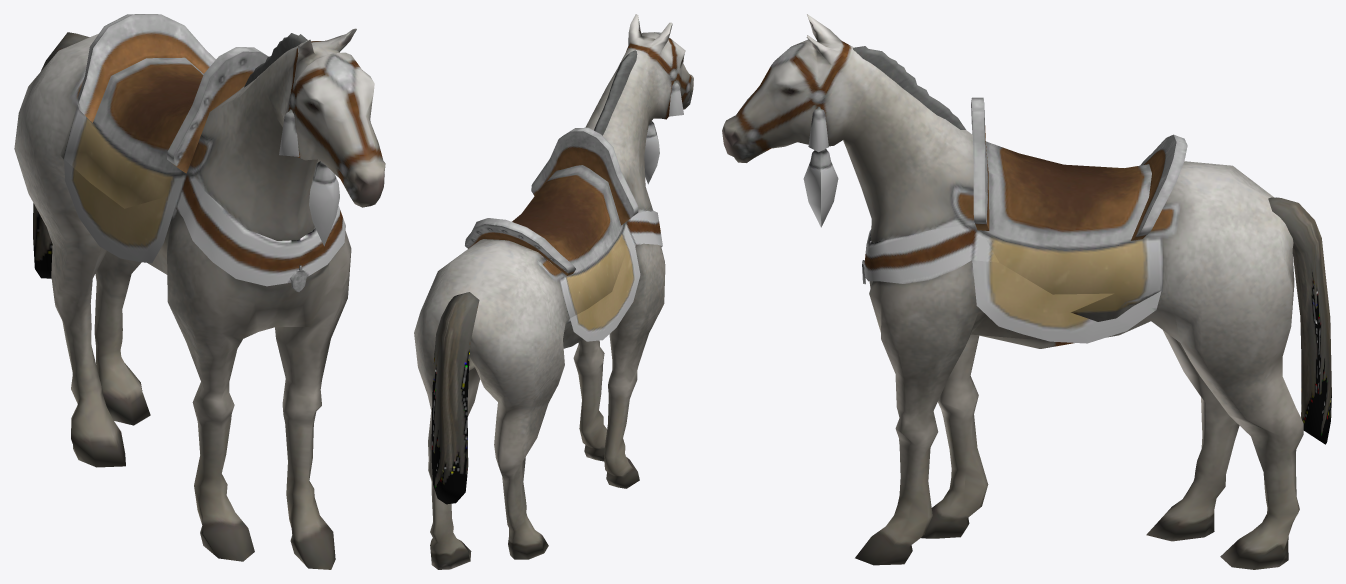
Rendered from body-base.glb.
3 views of the same model, side by side, from view 1: azimuth 30°, elevation 25°; view 2: azimuth 150°, elevation 25°; view 3: azimuth 270°, elevation 25° (orthographic). The views are drawn at different scales.
Bounding box in the file's own units: 0.8064 × 2.5 × 2.65.
1 material, 1 textured.
